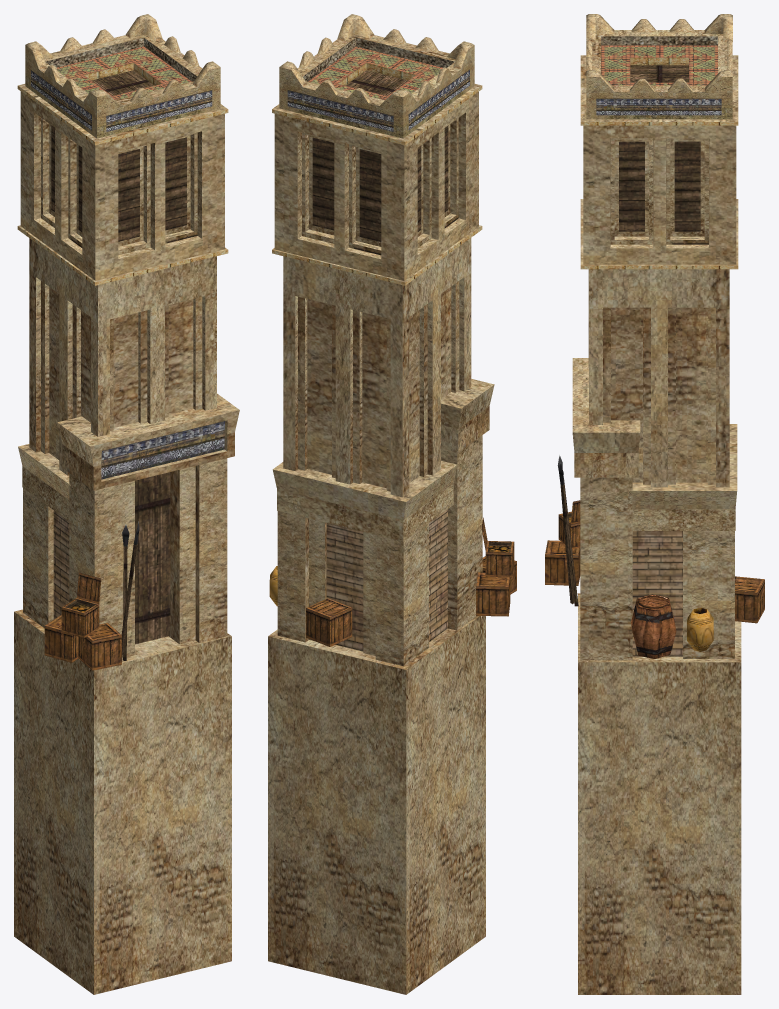
The model's file is pers_scout_tower_b.glb.
The picture shows the model from 3 angles, left to right: view 1: azimuth 30°, elevation 25°; view 2: azimuth 150°, elevation 25°; view 3: azimuth 270°, elevation 25°; orthographic projection. The views are drawn at different scales.
Bounding box in the file's own units: 7.99 × 33.34 × 7.25.
1 material, 1 textured.
